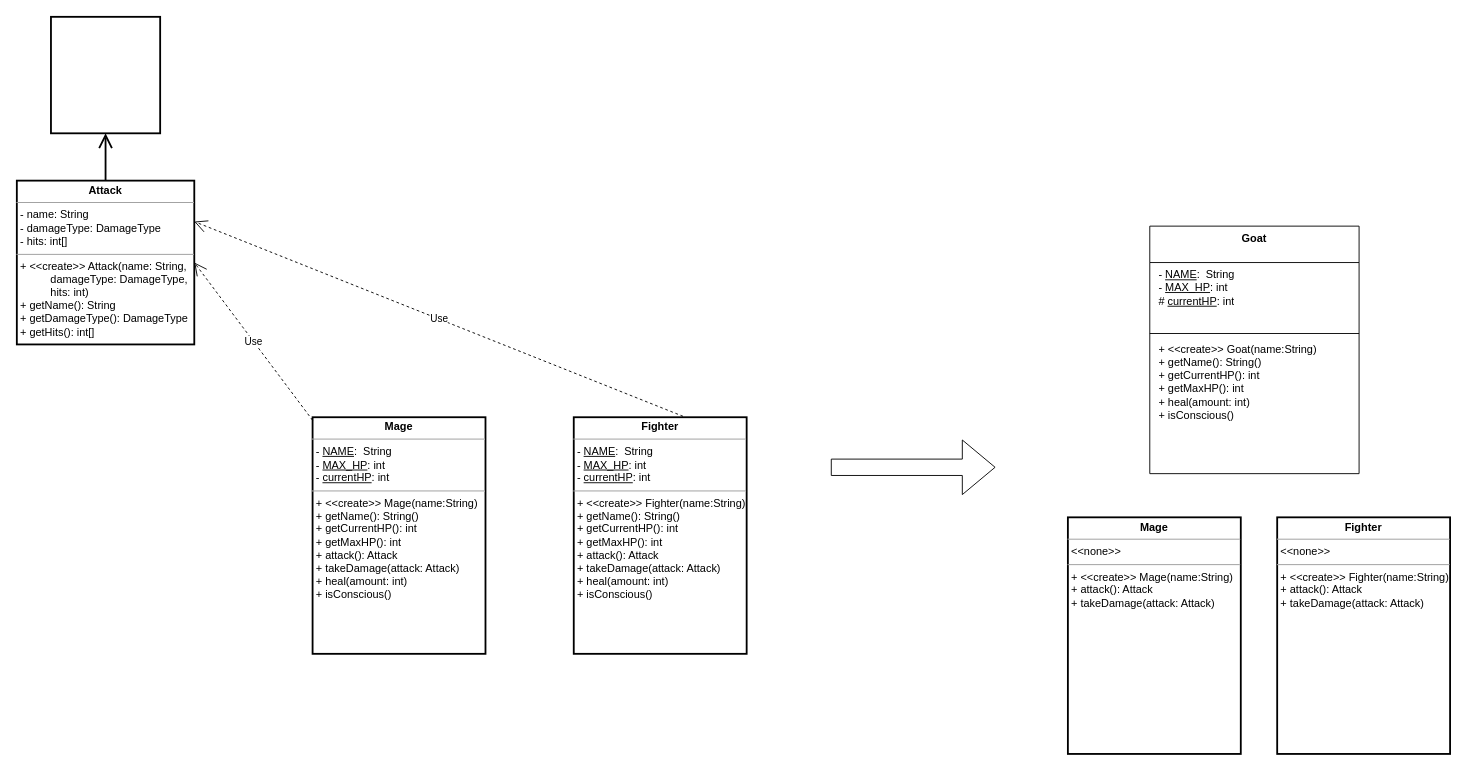
Image size: 1466x770. Some labels were removed from this diagram. Here are the shapes that lost their labels. From the top down, the centre of each, then its label:
the point at 105,74: <<enum>> DamageType + PHYSICAL + MAGICAL + POISON + HOLY + ELEMENTAL
the point at 912,467: Phase 2
